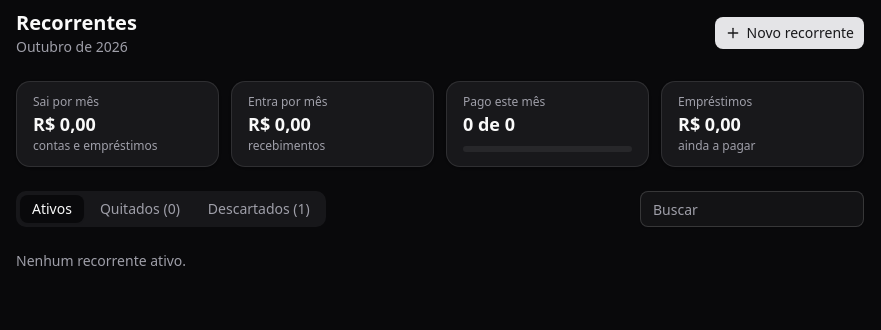
it: Recurring › keeps the discarded section collapsed until opened
Expected: the text "Spotify" is not shown
Click the button "Descartados (1)". click: (259, 209)
box: 196,195 -> 322,223
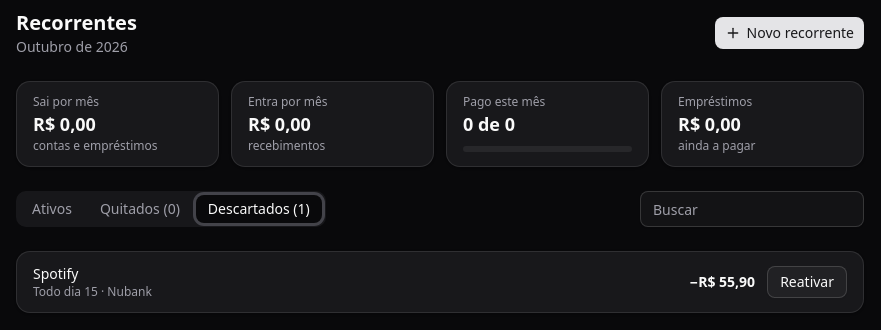
Now the text "Spotify" is shown, box 33,264 -> 78,283
